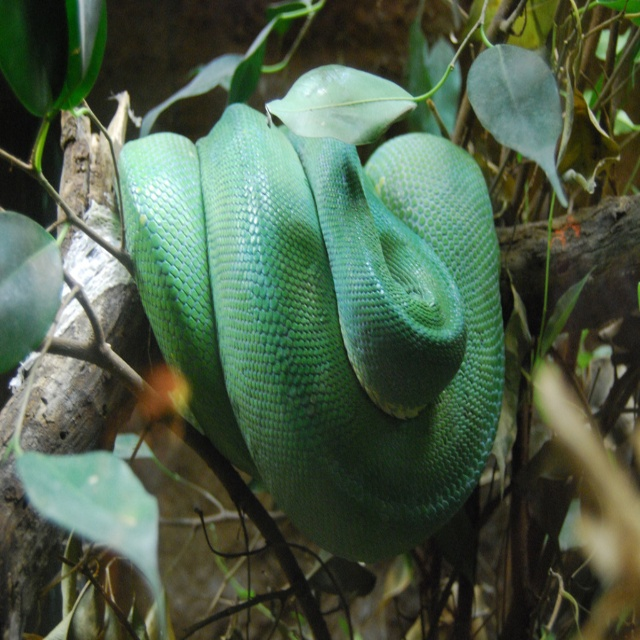Snake: (113, 75, 534, 596)
